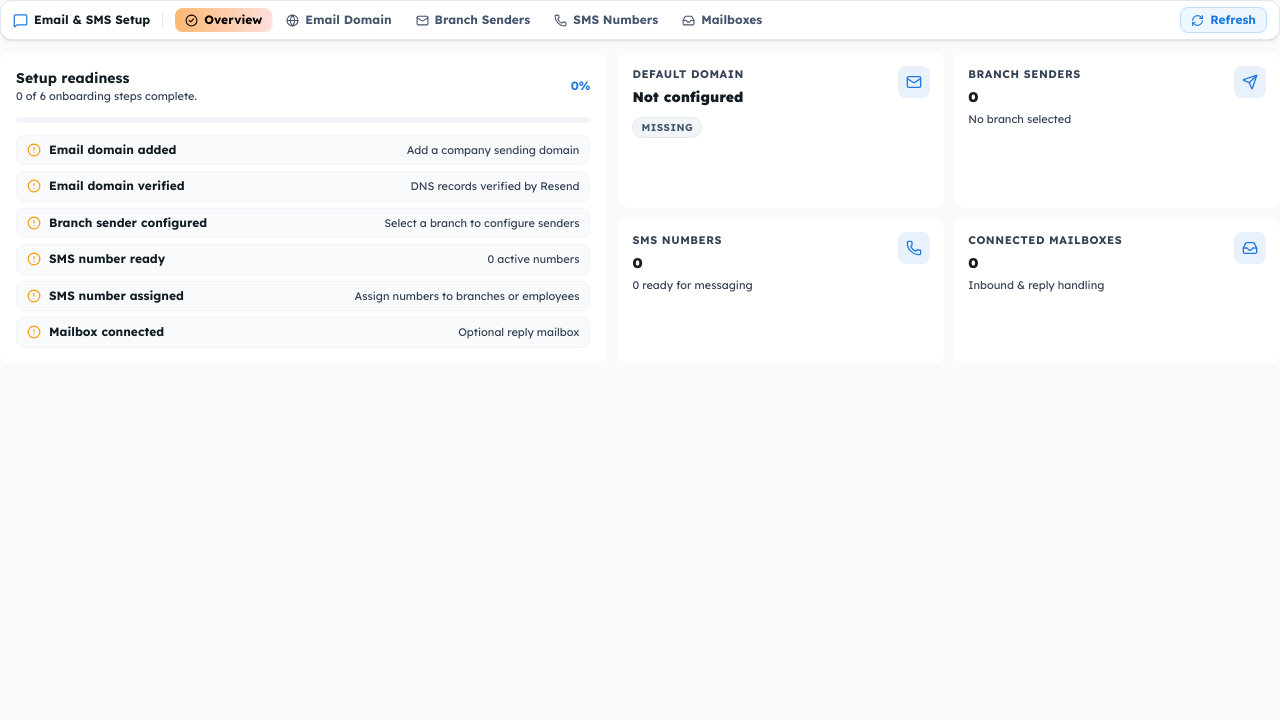
Test: disables testing without a branch
Click the button "Branch Senders" at (473, 20), box [406, 8, 540, 32]
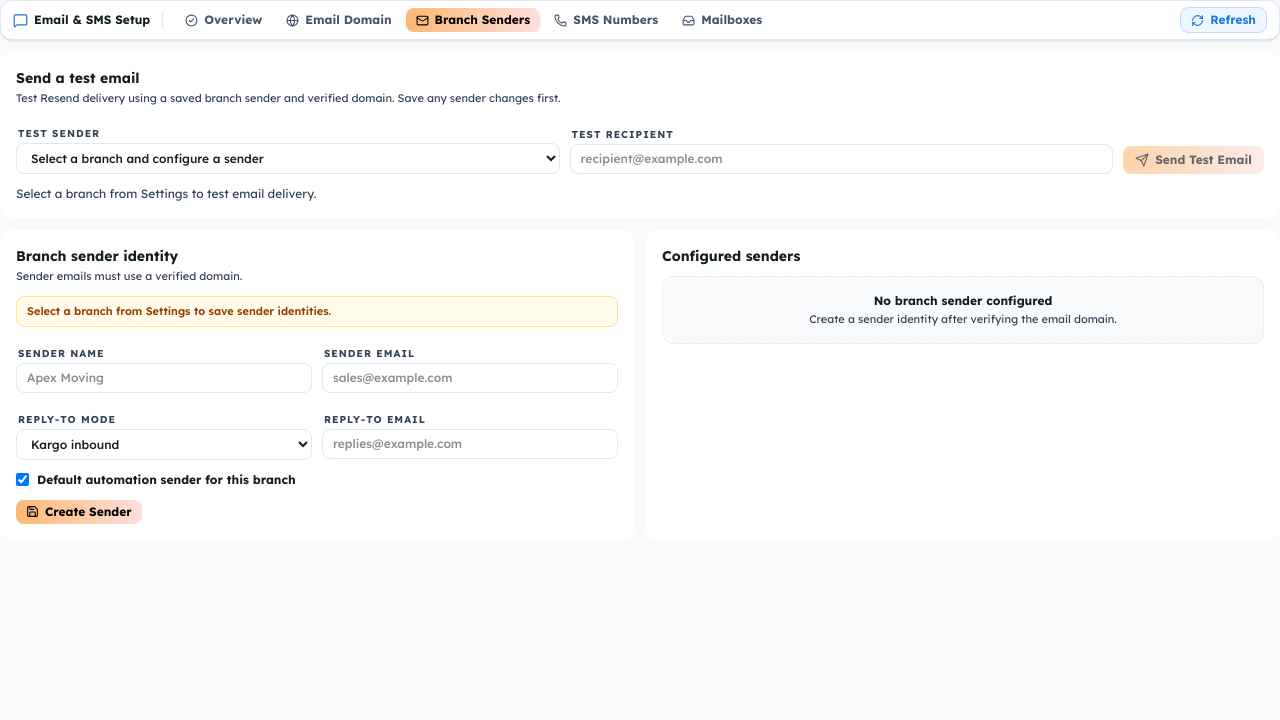
expect the button "Send Test Email" is disabled: met, box [1123, 146, 1264, 174]
